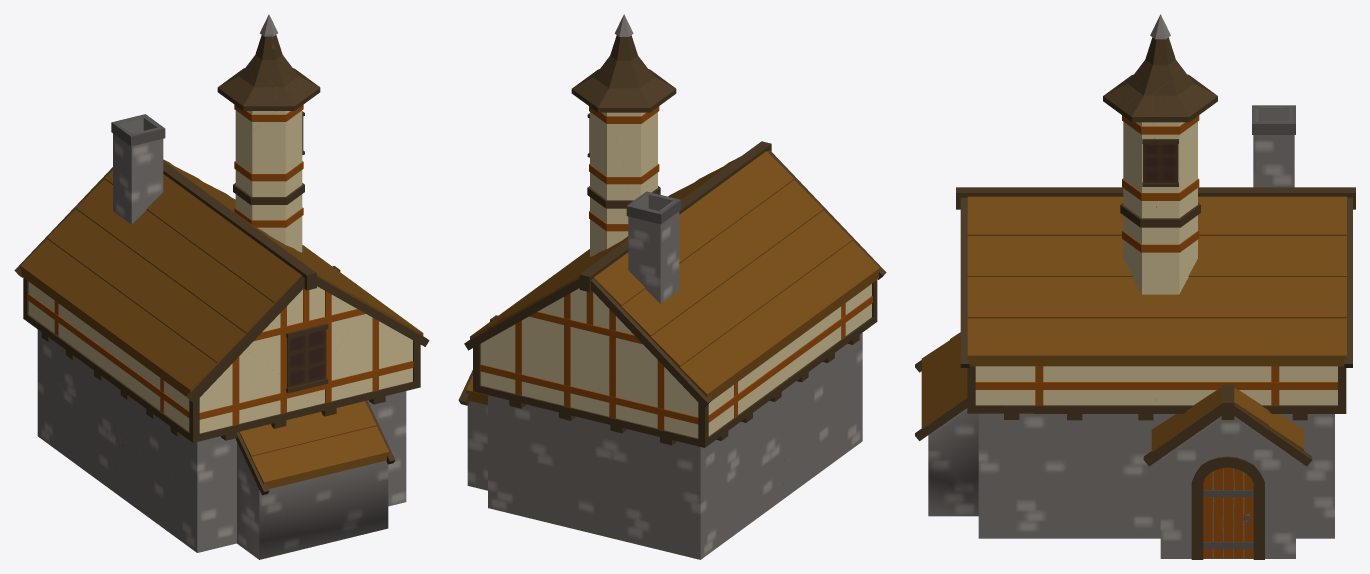
The model's file is ExplodedHouseCastle#6.fbx.
The picture shows the model from 3 angles, left to right: view 1: azimuth 30°, elevation 25°; view 2: azimuth 150°, elevation 25°; view 3: azimuth 270°, elevation 25°; orthographic projection. The views are drawn at different scales.
Visible parts, largest first — view 1: HouseCastle#6.075, HouseCastle#6.052, HouseCastle#6.051, HouseCastle#6.050, HouseCastle#6_cell.003, HouseCastle#6_cell.009, HouseCastle#6.049, HouseCastle#6_cell.002, HouseCastle#6_cell.013, HouseCastle#6.053, HouseCastle#6.076, HouseCastle#6_cell.014 (+30 smaller); view 2: HouseCastle#6_cell.002, HouseCastle#6_cell.014, HouseCastle#6.052, HouseCastle#6.051, HouseCastle#6.050, HouseCastle#6_cell.006, HouseCastle#6.049, HouseCastle#6_cell.012, HouseCastle#6.053, HouseCastle#6_cell.003, HouseCastle#6.080_cell.007, HouseCastle#6.001 (+22 smaller); view 3: HouseCastle#6.048, HouseCastle#6.047, HouseCastle#6_cell.017, HouseCastle#6.046, HouseCastle#6.045, HouseCastle#6.064, HouseCastle#6_cell, HouseCastle#6.075, HouseCastle#6.080_cell.003, HouseCastle#6_cell.012, HouseCastle#6.080_cell.002, HouseCastle#6.053 (+33 smaller).
Part boxes in pixels (x1,y1,x2,y2): HouseCastle#6.075: (237,442,388,559); HouseCastle#6.052: (20,239,216,396); HouseCastle#6.051: (47,209,245,364); HouseCastle#6.050: (76,179,274,333); HouseCastle#6_cell.003: (119,438,236,552); HouseCastle#6_cell.009: (108,340,307,430); HouseCastle#6.049: (104,170,301,304); HouseCastle#6_cell.002: (37,374,120,495); HouseCastle#6_cell.013: (116,418,236,494); HouseCastle#6.053: (111,114,165,224); HouseCastle#6.076: (251,426,389,488); HouseCastle#6_cell.014: (28,282,116,419); HouseCastle#6_cell.002: (594,425,784,557); HouseCastle#6_cell.014: (590,345,788,479); HouseCastle#6.052: (680,241,879,401); HouseCastle#6.051: (650,210,852,368); HouseCastle#6.050: (621,180,823,337); HouseCastle#6_cell.006: (488,445,594,533); HouseCastle#6.049: (593,151,794,306); HouseCastle#6_cell.012: (480,371,595,463); HouseCastle#6.053: (626,191,681,303); HouseCastle#6_cell.003: (783,382,862,498); HouseCastle#6.080_cell.007: (598,71,676,192); HouseCastle#6.001: (473,280,877,447); HouseCastle#6.048: (967,318,1346,366); HouseCastle#6.047: (967,277,1346,318); HouseCastle#6_cell.017: (978,459,1156,538); HouseCastle#6.046: (967,236,1346,276); HouseCastle#6.045: (967,196,1346,235); HouseCastle#6.064: (1160,416,1295,558); HouseCastle#6_cell: (978,401,1156,469); HouseCastle#6.075: (928,408,978,516); HouseCastle#6.080_cell.003: (1132,199,1197,294); HouseCastle#6_cell.012: (1156,390,1337,469); HouseCastle#6.080_cell.002: (1154,74,1217,212); HouseCastle#6.053: (1252,105,1295,187).
Bounding box in the file's own units: 1691 × 2676 × 2163.
